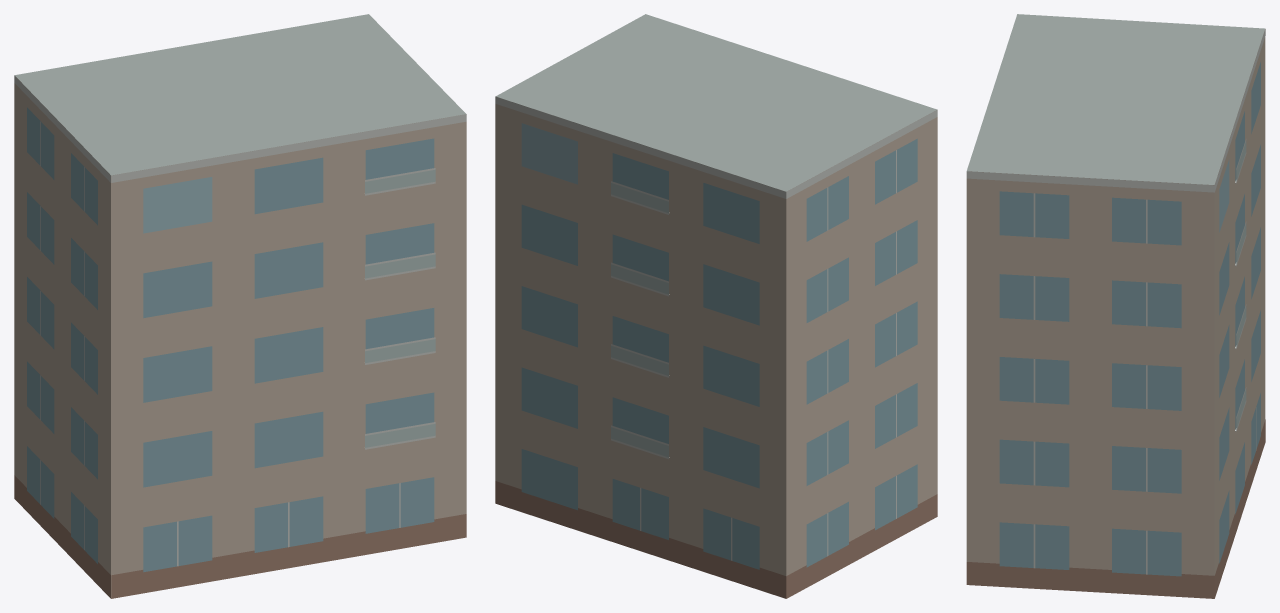
File: survey-upis-32670155.glb
3 renders of one model, left to right at view 1: azimuth 30°, elevation 25°; view 2: azimuth 150°, elevation 25°; view 3: azimuth 270°, elevation 25°, orthographic. The views are drawn at different scales.
Visible parts, largest first — view 1: survey-upis-32670155.tmp; view 2: survey-upis-32670155.tmp; view 3: survey-upis-32670155.tmp.
Part boxes in pixels (box(x1,y1,x2,y2)): survey-upis-32670155.tmp: box(14, 14, 466, 598); survey-upis-32670155.tmp: box(495, 14, 937, 598); survey-upis-32670155.tmp: box(966, 14, 1265, 598).
Size of the model in its own units: 12.07 by 13.6 by 8.91.
